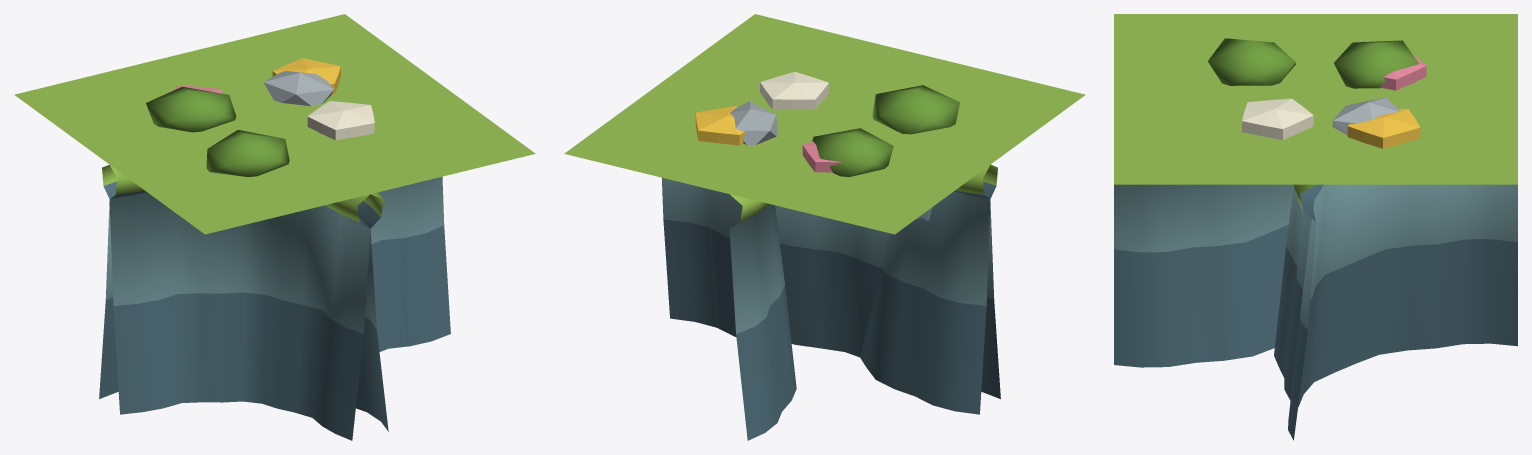
Rendered from terrain_tiles.glb.
3 views of the same model, side by side, from view 1: azimuth 30°, elevation 25°; view 2: azimuth 150°, elevation 25°; view 3: azimuth 270°, elevation 25° (orthographic). The views are drawn at different scales.
Parts seen in each view (by area): view 1: tile_corner_inner, tile_full, tile_edge, tile_corner_outer, tile_diagonal, tile_full_b, tile_full_c; view 2: tile_full, tile_edge, tile_diagonal, tile_corner_inner, tile_corner_outer, tile_full_b, tile_full_c; view 3: tile_full, tile_corner_outer, tile_diagonal, tile_edge, tile_corner_inner, tile_full_b, tile_full_c.
Part boxes in pixels (x1,y1,x2,y2): tile_corner_inner: (15,54,534,440); tile_full: (15,14,535,234); tile_edge: (15,55,436,351); tile_corner_outer: (182,14,450,346); tile_diagonal: (99,148,388,431); tile_full_b: (146,58,374,140); tile_full_c: (170,71,333,176); tile_full: (564,14,1084,234); tile_edge: (660,84,1000,398); tile_diagonal: (860,55,1085,414); tile_corner_inner: (661,14,993,233); tile_corner_outer: (564,85,796,440); tile_full_b: (695,72,893,177); tile_full_c: (730,85,959,172); tile_full: (1114,14,1517,184); tile_corner_outer: (1288,99,1517,440); tile_diagonal: (1114,14,1315,367); tile_edge: (1274,14,1517,422); tile_corner_inner: (1114,14,1517,184); tile_full_b: (1242,40,1420,148); tile_full_c: (1208,38,1426,135).
Bounding box in the file's own units: 1 × 0.7762 × 1.
